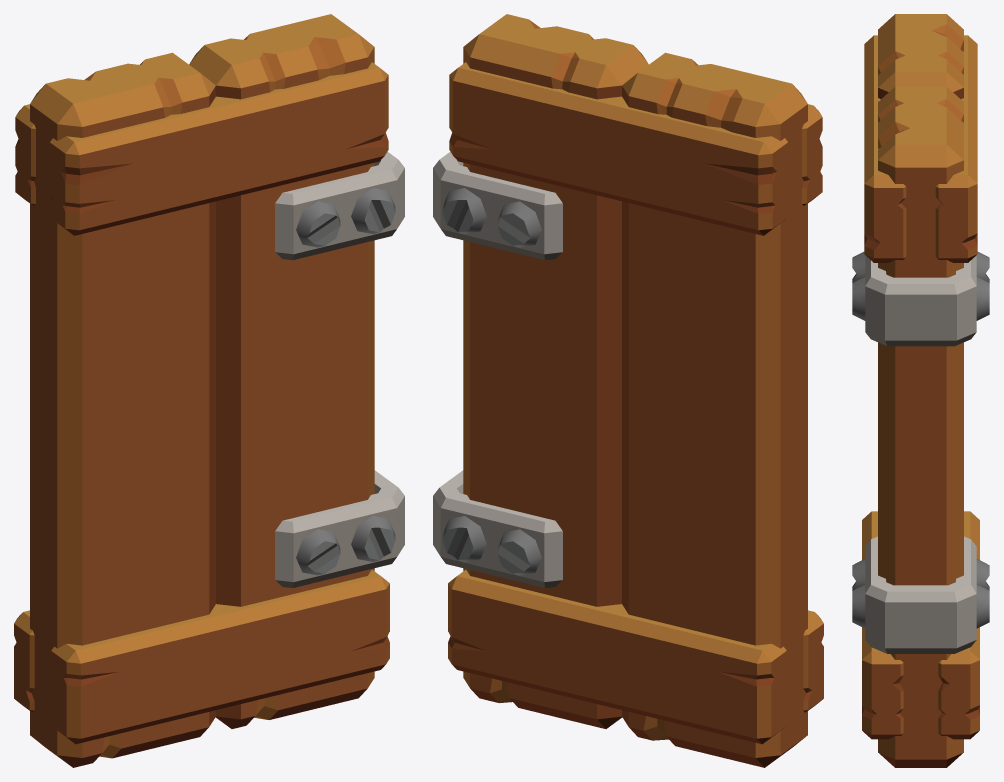
File: m_dec_dung_doorWoodLarge.fbx
3 renders of one model, left to right at view 1: azimuth 30°, elevation 25°; view 2: azimuth 150°, elevation 25°; view 3: azimuth 270°, elevation 25°, orthographic. The views are drawn at different scales.
Parts seen in each view (by area): view 1: m_dec_dung_doorWoodLarge; view 2: m_dec_dung_doorWoodLarge; view 3: m_dec_dung_doorWoodLarge.
Boxes of the visible parts, bbox=[...] form: m_dec_dung_doorWoodLarge: bbox=[14, 14, 404, 767]; m_dec_dung_doorWoodLarge: bbox=[433, 14, 823, 767]; m_dec_dung_doorWoodLarge: bbox=[852, 14, 989, 767].
Bounding box in the file's own units: 2.18 × 4 × 0.8007.
